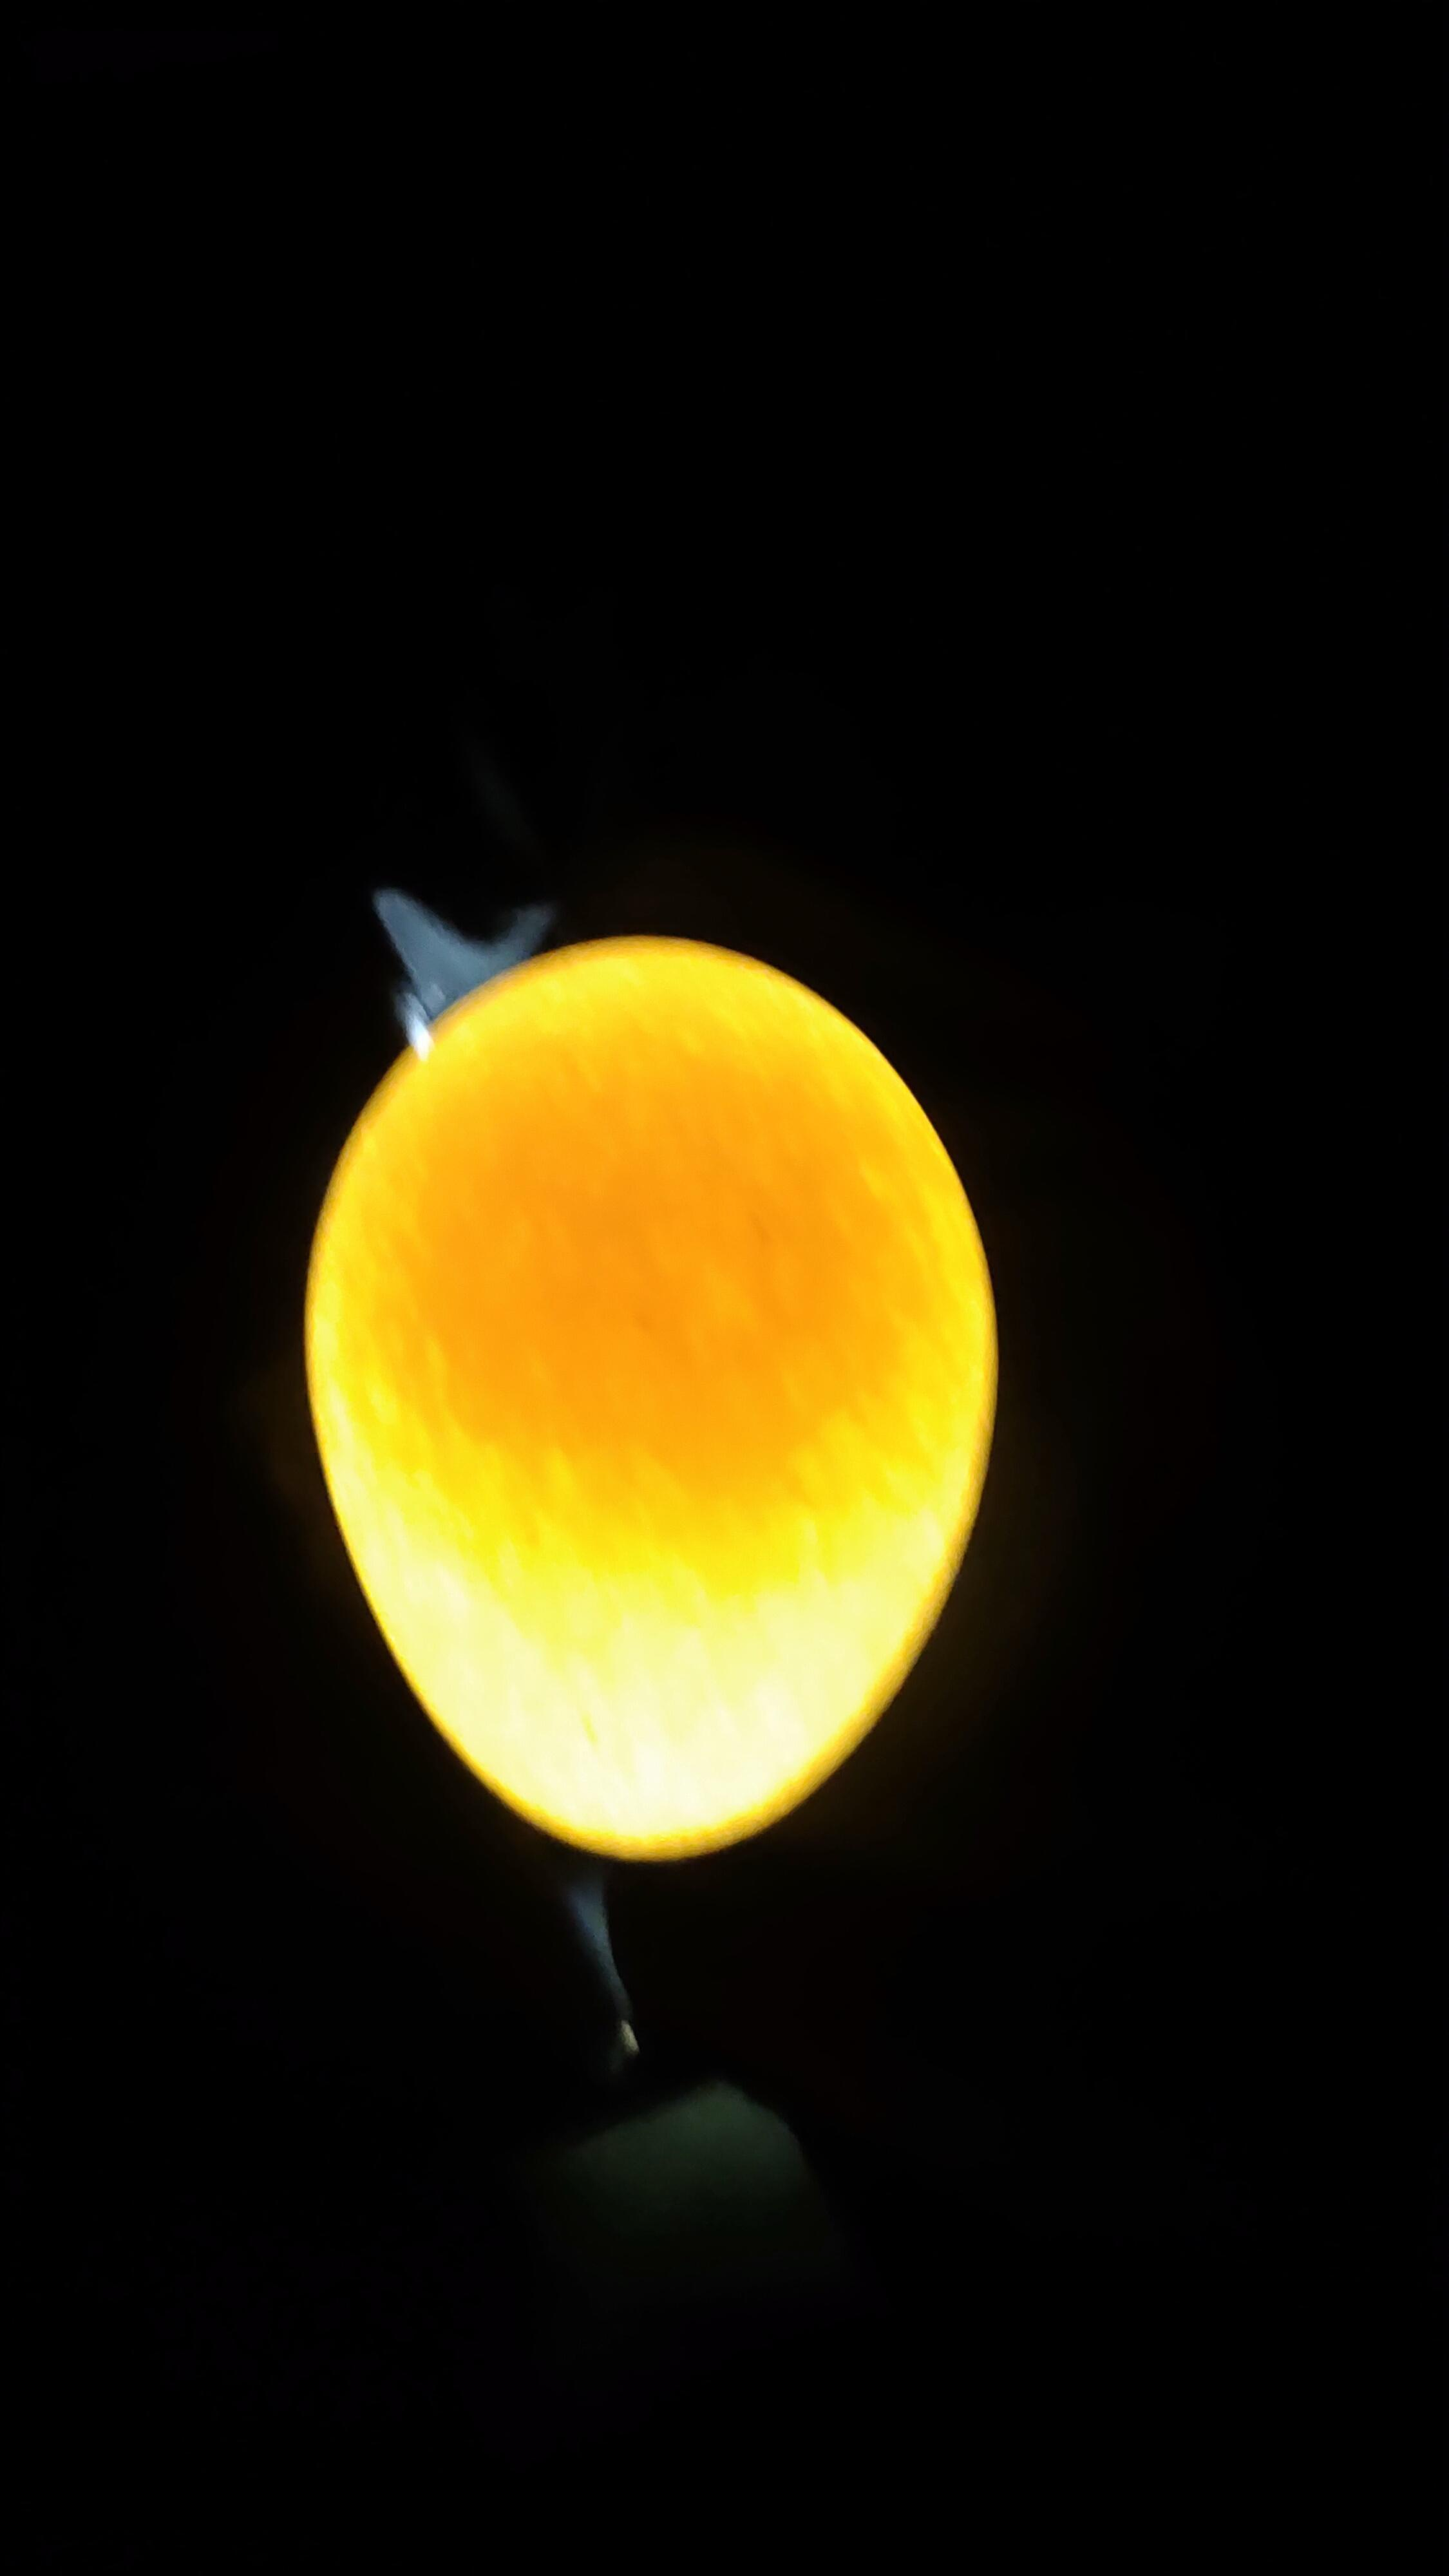A - Good: (219, 876, 1049, 1939)
